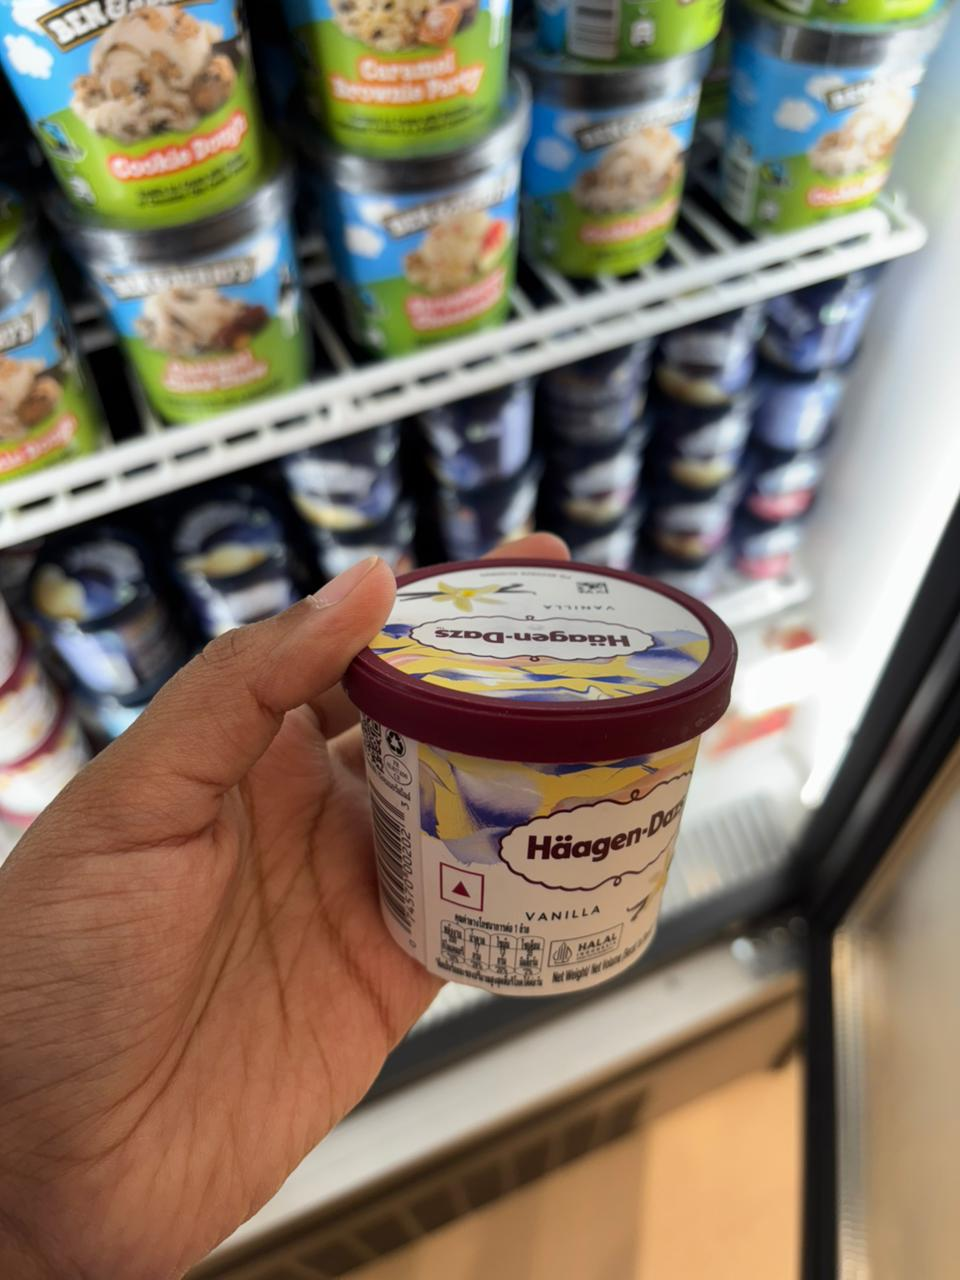Haagen-Dazs IceCream Tub: (318, 546, 750, 1021)
